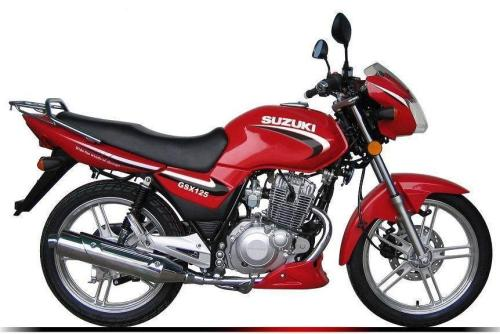motor: (13, 41, 488, 330)
